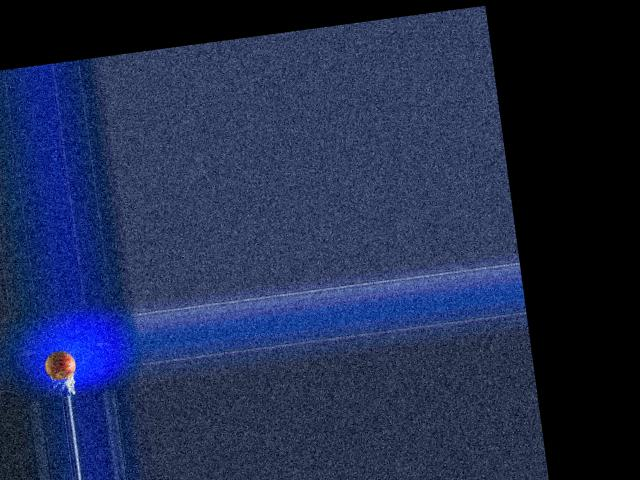tomato: (42, 349, 76, 381)
